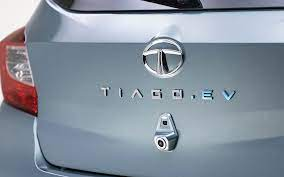Tiago: (1, 3, 284, 177)
